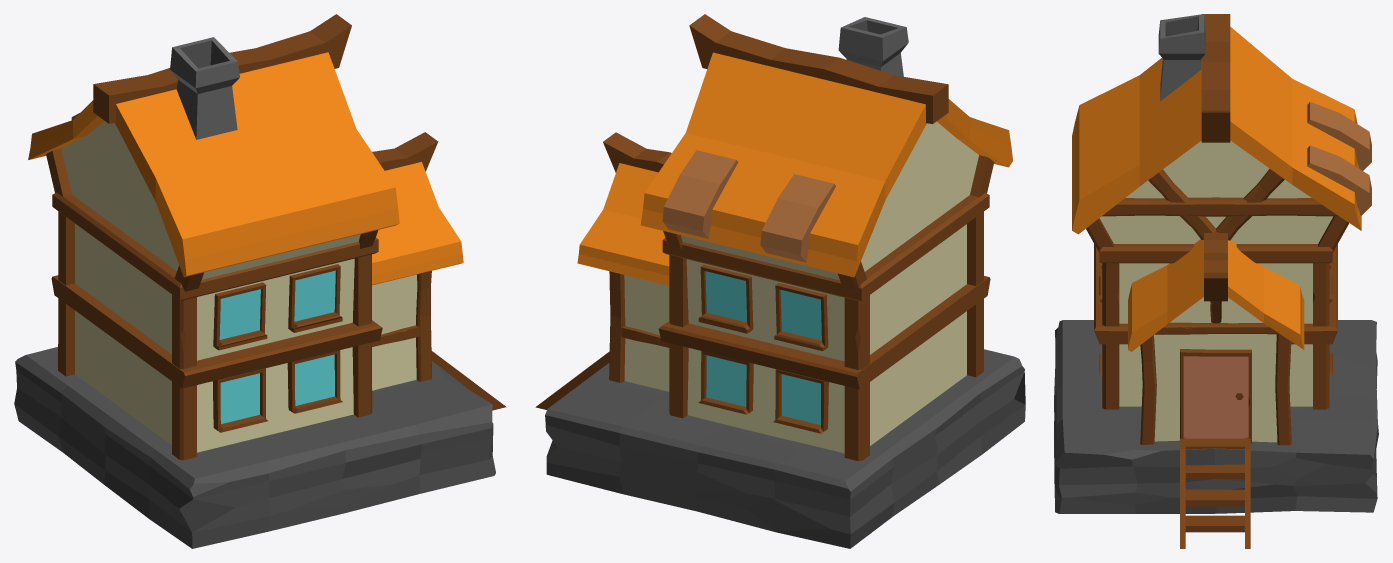
Rendered from Income Hut_1.fbx.
3 renders of one model, left to right at view 1: azimuth 30°, elevation 25°; view 2: azimuth 150°, elevation 25°; view 3: azimuth 270°, elevation 25°, orthographic. The views are drawn at different scales.
Visible parts, largest first — view 1: Dach, Base, Cube, Cube.008, Cube.024, Schornstein, Cube.001; view 2: Base, Dach, Cube.008, Cube, Cube.024, Cube.020, Schornstein, Cube.001; view 3: Dach, Base, Cube.008, Cube, Cylinder, Cube.001, Cube.020, Schornstein, Cube.024.
Boxes of the visible parts, bbox=[...] form: Dach: bbox=[28, 52, 463, 285]; Base: bbox=[14, 347, 495, 548]; Cube: bbox=[61, 121, 417, 452]; Cube.008: bbox=[46, 14, 438, 460]; Cube.024: bbox=[212, 264, 342, 432]; Schornstein: bbox=[170, 37, 239, 139]; Cube.001: bbox=[431, 351, 506, 410]; Base: bbox=[545, 349, 1025, 548]; Dach: bbox=[577, 52, 1012, 285]; Cube.008: bbox=[603, 14, 994, 461]; Cube: bbox=[624, 121, 978, 453]; Cube.024: bbox=[698, 264, 828, 433]; Cube.020: bbox=[662, 150, 835, 262]; Schornstein: bbox=[838, 17, 908, 76]; Cube.001: bbox=[535, 351, 609, 409]; Dach: bbox=[1072, 27, 1361, 351]; Base: bbox=[1054, 320, 1378, 513]; Cube.008: bbox=[1086, 14, 1349, 445]; Cube: bbox=[1099, 140, 1333, 442]; Cylinder: bbox=[1180, 349, 1251, 443]; Cube.001: bbox=[1180, 437, 1250, 548]; Cube.020: bbox=[1307, 102, 1371, 215]; Schornstein: bbox=[1158, 14, 1205, 100]; Cube.024: bbox=[1099, 263, 1332, 375].
Bounding box in the file's own units: 609 × 648 × 486.
